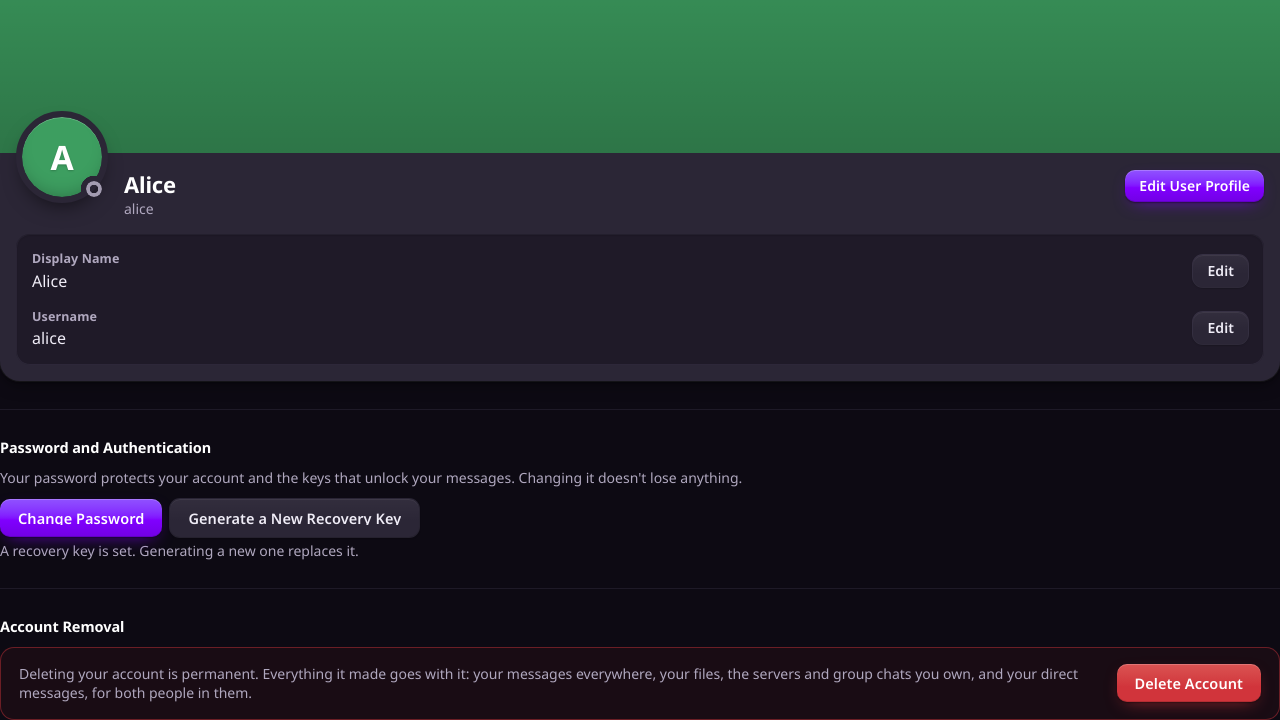
AccountPage's new recovery key › goes only once the person says it is saved
The width and height of the screenshot is (1280, 720).
(page scrolled)
Click the button "Generate a New Recovery Key".
click(295, 518)  # box [170,499,419,537]
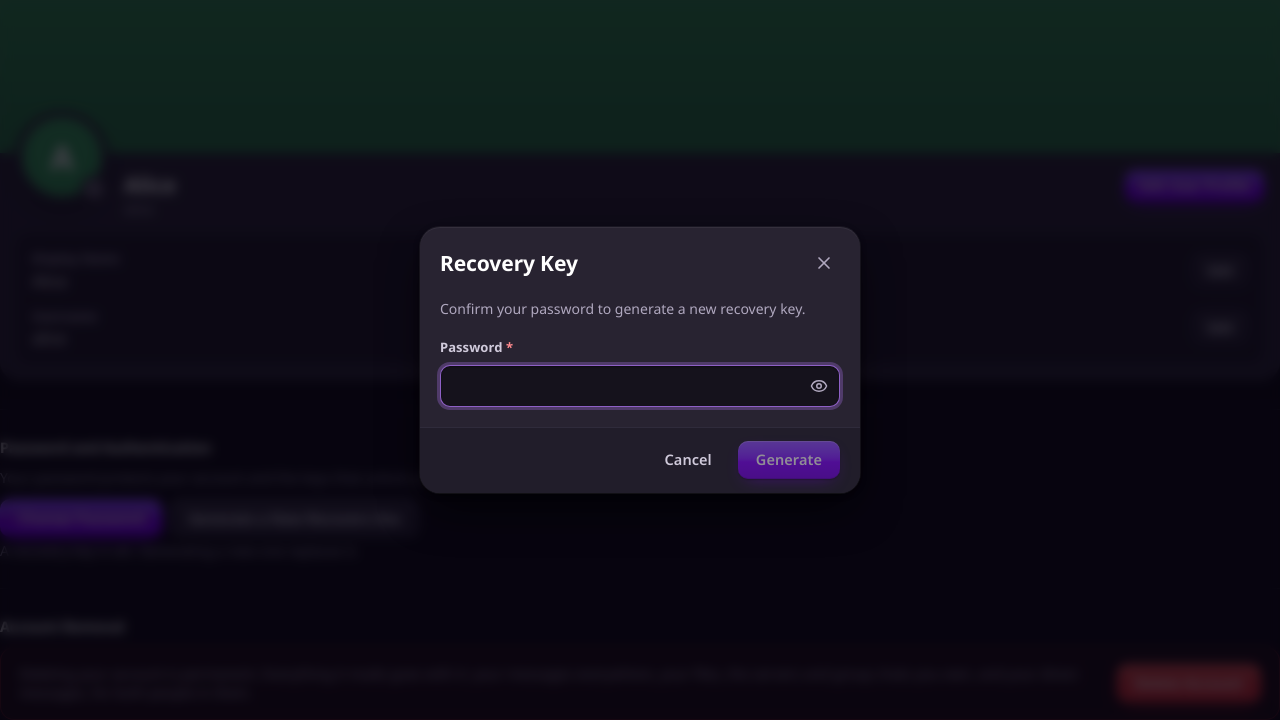
Type "hunter22" into the password field labelled "Password *".
click(640, 386); type("hunter22")  # box [440,365,840,407]
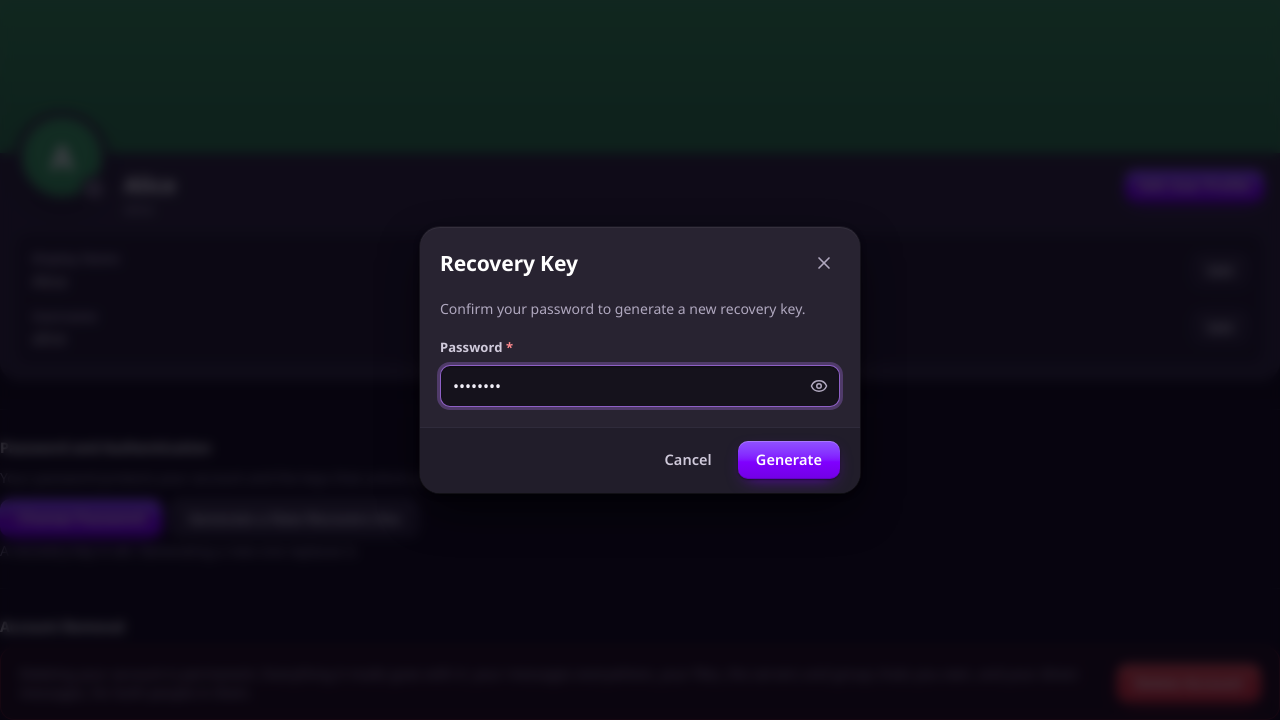
Press Enter in the password field labelled "Password *", box [440,365,840,407]
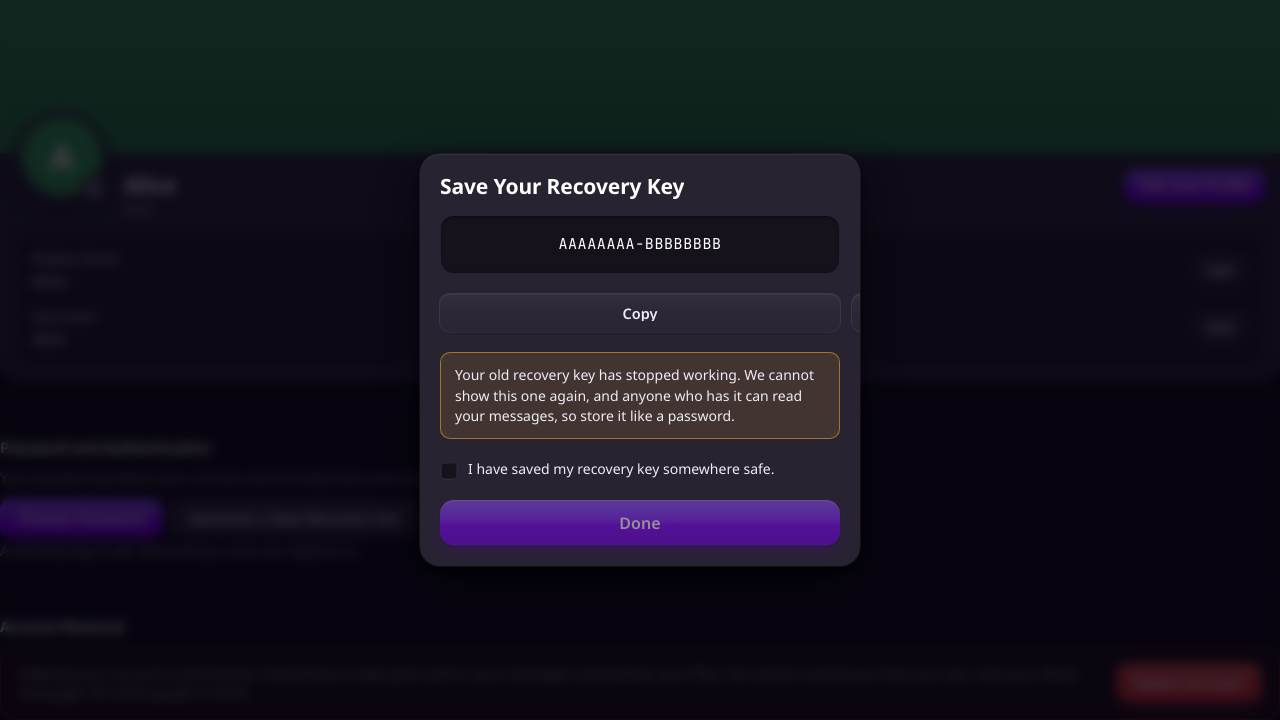
Check: the element with test id "recovery-key" is shown, box [440,215,840,274]
Check: the button with test id "recovery-done" is disabled, box [440,500,840,546]
Click the checkbox with test id "recovery-saved".
click(449, 471)  # box [440,462,458,480]
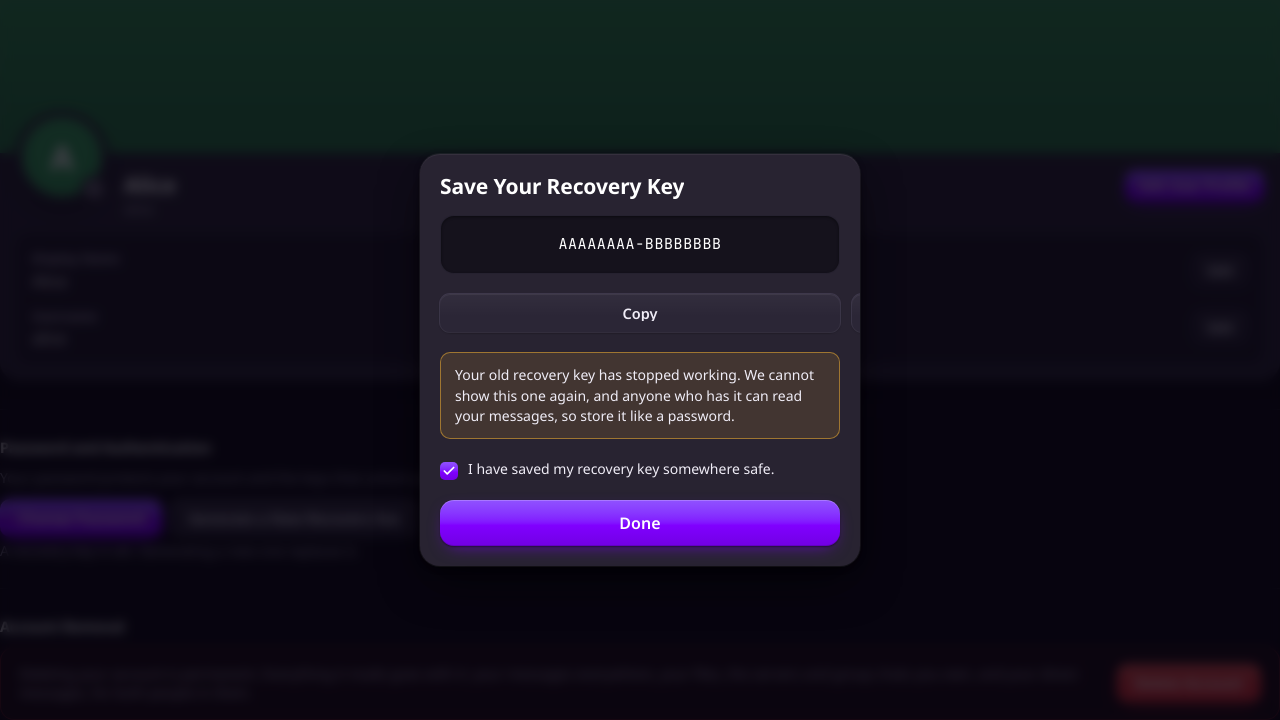
Check: the button with test id "recovery-done" is enabled
Click the button with test id "recovery-done".
click(640, 523)  # box [440,500,840,546]
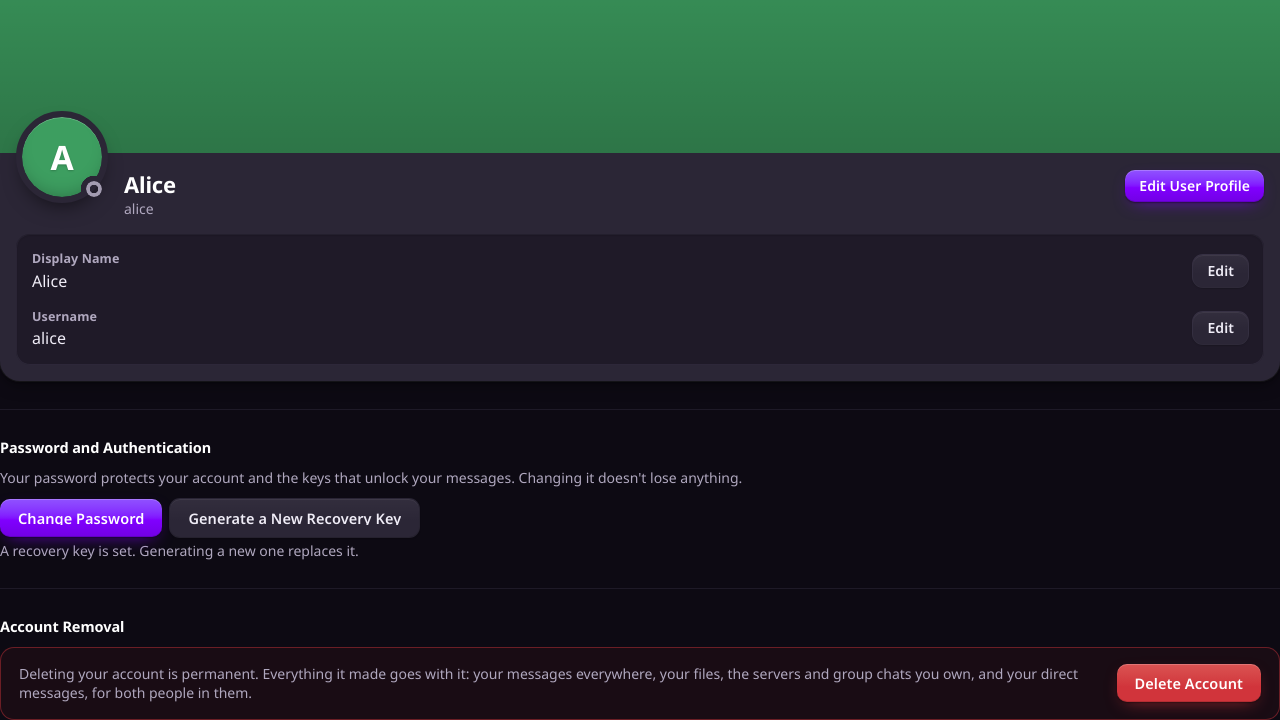
Check: the element with test id "recovery-key" is gone
